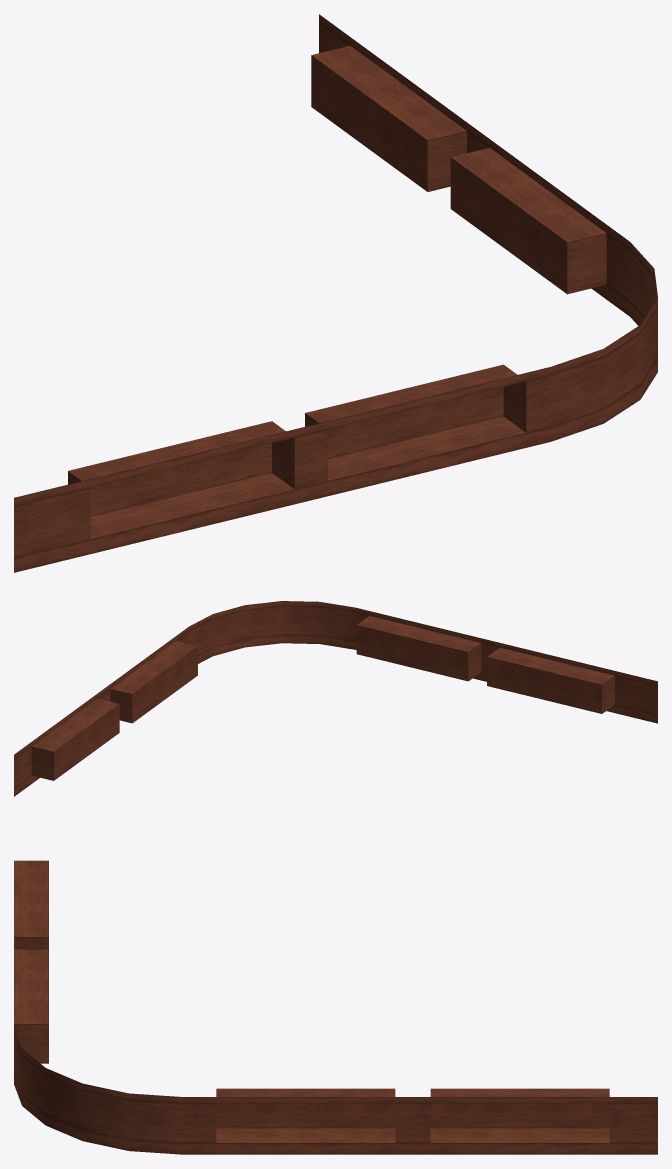
Rendered from World_SofaBase.fbx.
3 renders of one model, top to bottom at view 1: azimuth 30°, elevation 25°; view 2: azimuth 150°, elevation 25°; view 3: azimuth 270°, elevation 25°, orthographic. The views are drawn at different scales.
Parts seen in each view (by area): view 1: World_SofaBase; view 2: World_SofaBase; view 3: World_SofaBase.
Boxes of the visible parts, <box> form: World_SofaBase: <box>14,14,657,572</box>; World_SofaBase: <box>14,601,657,796</box>; World_SofaBase: <box>14,860,657,1154</box>.
Size of the model in its own units: 3.68 by 0.3646 by 3.69.
